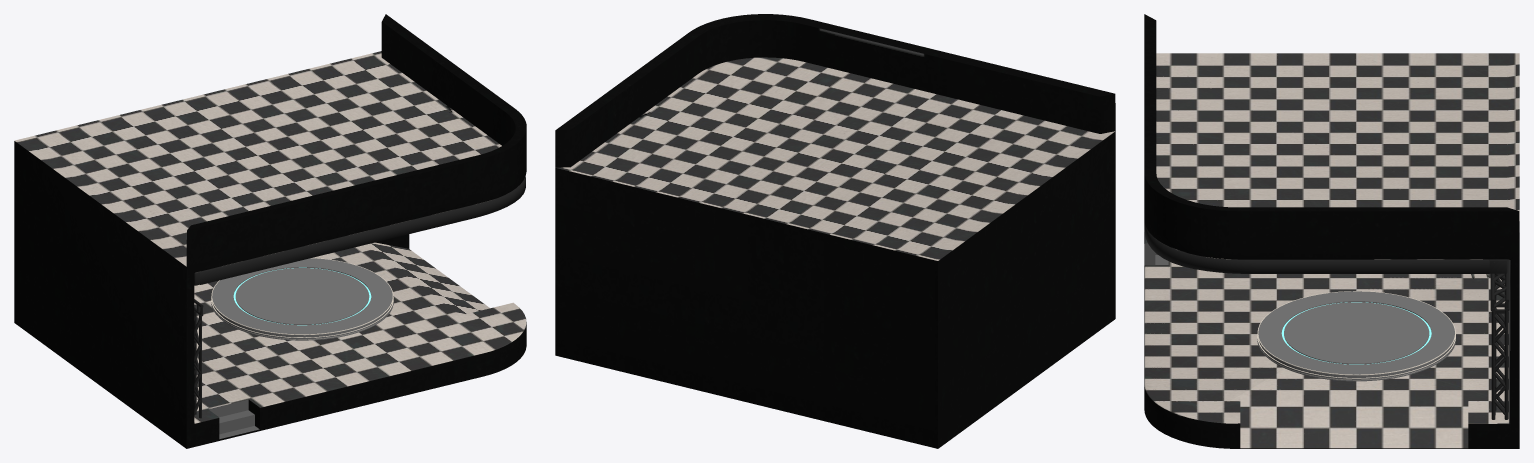
File: garage-2x - Copy.fbx
3 views of the same model, side by side, from view 1: azimuth 30°, elevation 25°; view 2: azimuth 150°, elevation 25°; view 3: azimuth 270°, elevation 25° (orthographic). The views are drawn at different scales.
Parts seen in each view (by area): view 1: 22, Cylinder_1, 42, Cylinder_0; view 2: 22; view 3: 22, Cylinder_1, 42, Cylinder_0, Cylinder_2.
Part boxes in pixels (<box>): 22: <box>14,14,526,448</box>; Cylinder_1: <box>211,258,393,340</box>; 42: <box>194,176,525,418</box>; Cylinder_0: <box>211,258,393,339</box>; 22: <box>555,14,1115,448</box>; 22: <box>1144,14,1519,448</box>; Cylinder_1: <box>1257,291,1455,381</box>; 42: <box>1144,221,1509,419</box>; Cylinder_0: <box>1257,291,1455,380</box>; Cylinder_2: <box>1281,302,1431,364</box>.
Bounding box in the file's own units: 932 × 524 × 749.
Materials: 9 (4 with a texture image).
